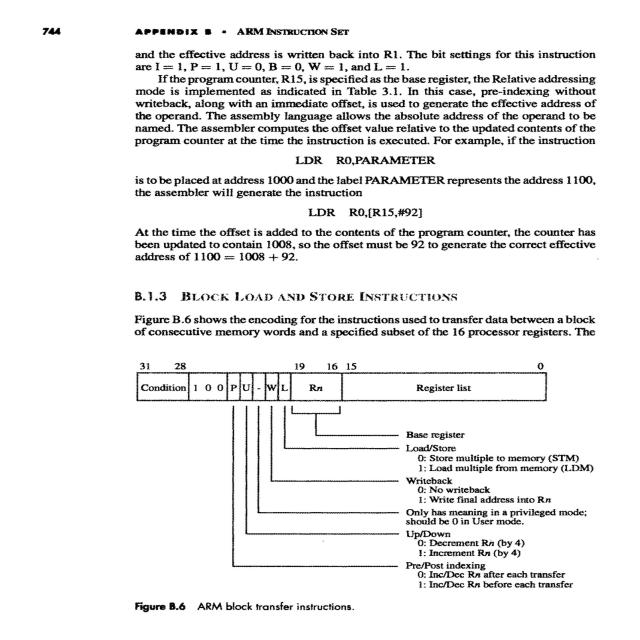diagram: (94, 346, 622, 626)
